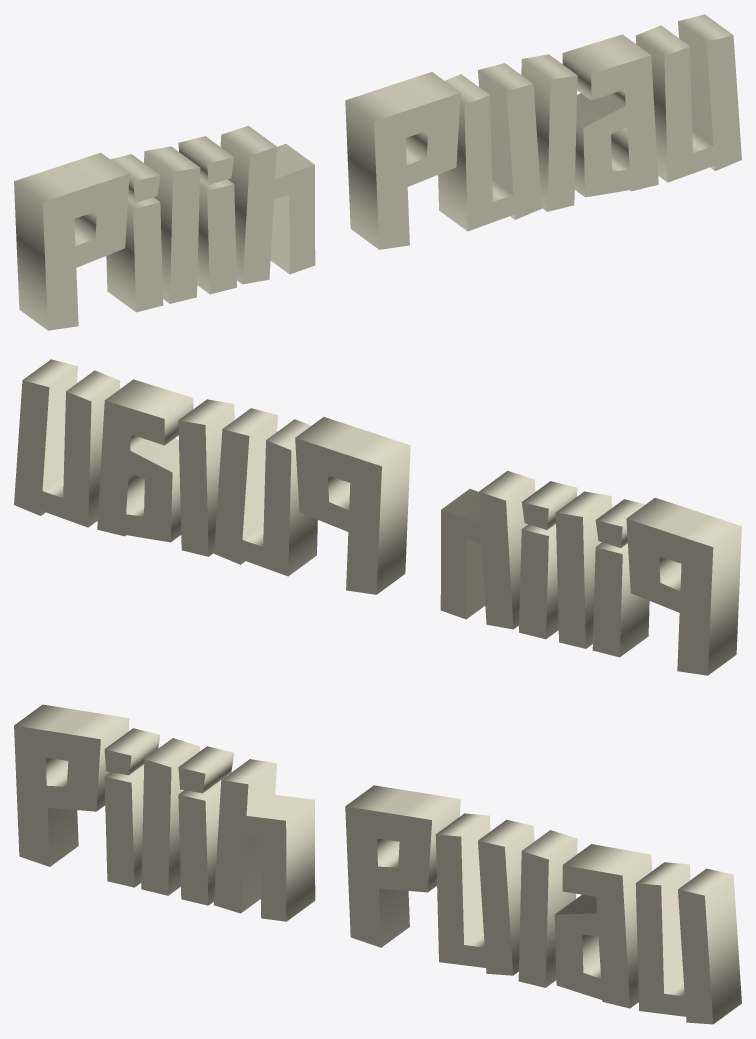
Rendered from Pilih Pulau.fbx.
3 renders of one model, top to bottom at view 1: azimuth 30°, elevation 25°; view 2: azimuth 150°, elevation 25°; view 3: azimuth 330°, elevation 25°, orthographic.
Visible parts, largest first — view 1: Pilih Map; view 2: Pilih Map; view 3: Pilih Map.
Part boxes in pixels (x1,y1,x2,y2): Pilih Map: (14,14,741,330); Pilih Map: (14,359,741,675); Pilih Map: (14,704,741,1024).
Size of the model in its own units: 422 by 80.95 by 30.
